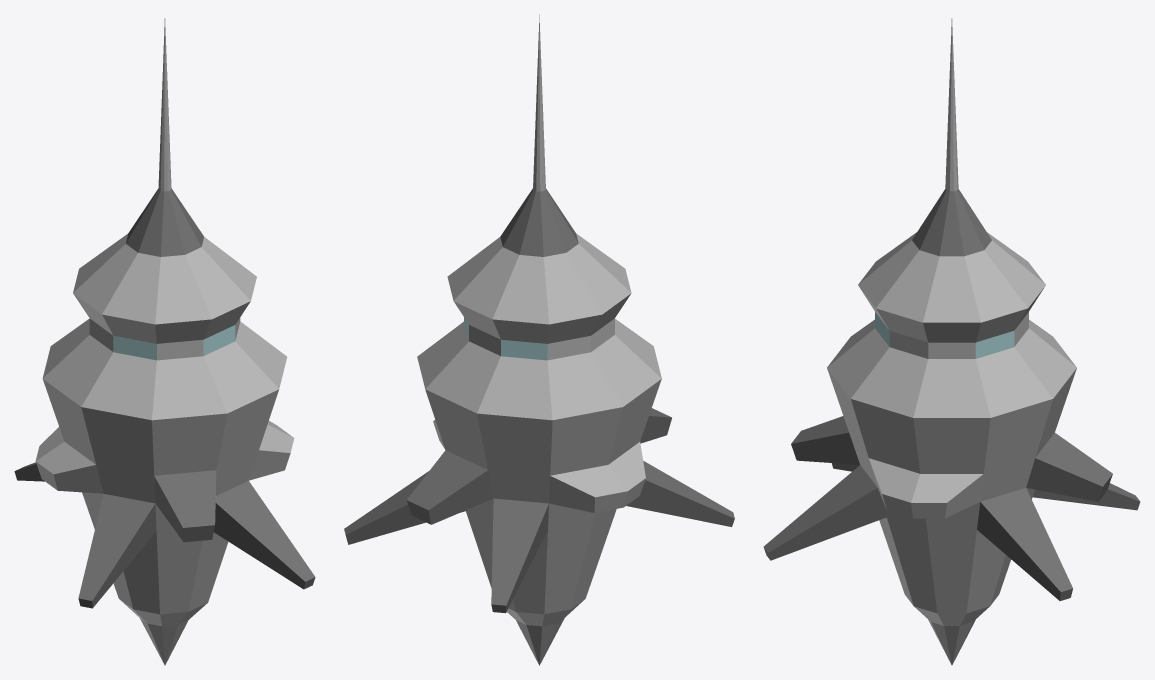
Rendered from spacestation.fbx.
3 views of the same model, side by side, from view 1: azimuth 30°, elevation 25°; view 2: azimuth 150°, elevation 25°; view 3: azimuth 270°, elevation 25° (orthographic).
Parts seen in each view (by area): view 1: Cylinder; view 2: Cylinder; view 3: Cylinder.
Boxes of the visible parts, x1,y1,x2,y2 form: Cylinder: [14, 18, 315, 665]; Cylinder: [344, 14, 734, 665]; Cylinder: [763, 18, 1140, 665].
Bounding box in the file's own units: 260 × 575 × 301.
